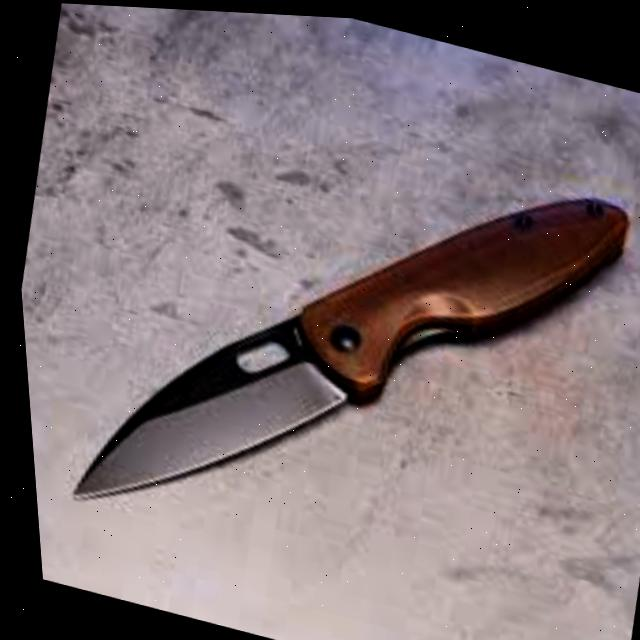Knife: (37, 69, 640, 624)
